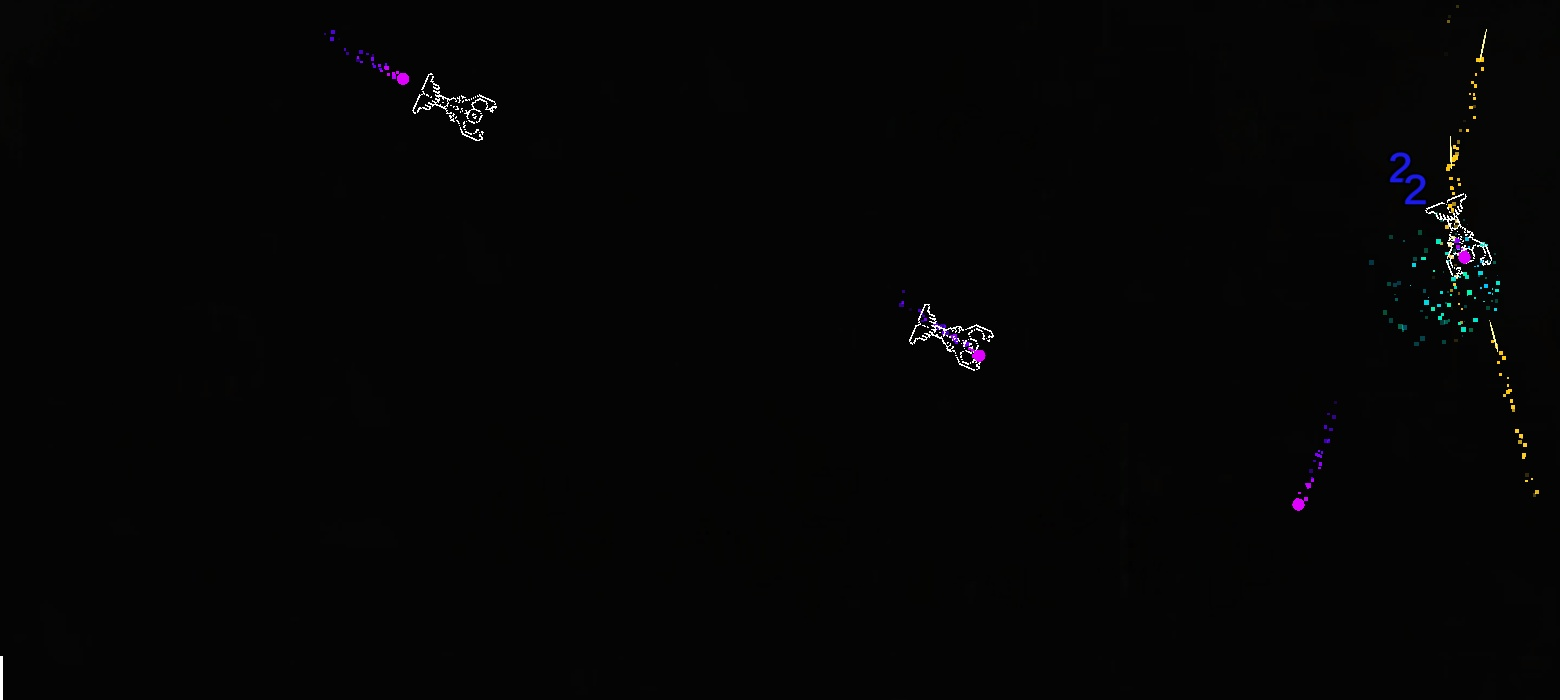enemy: (412, 73, 497, 141), (909, 304, 995, 371), (1425, 193, 1492, 279)
